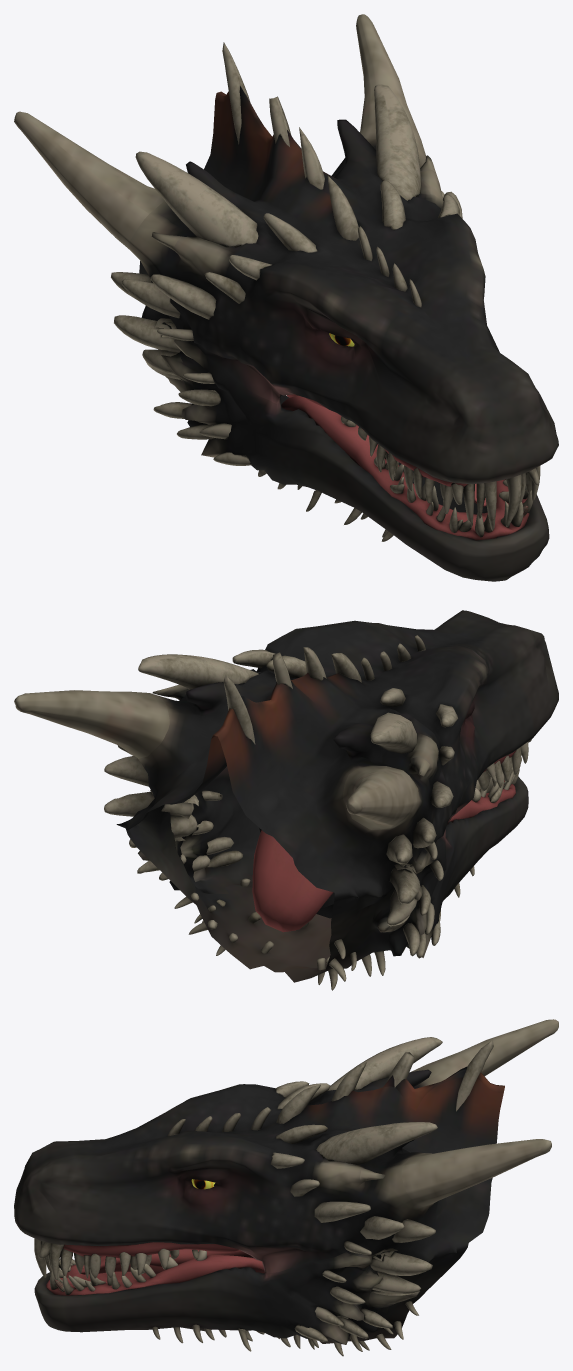
The model's file is dragon_00002.obj.
The picture shows the model from 3 angles, top to bottom: view 1: azimuth 30°, elevation 25°; view 2: azimuth 150°, elevation 25°; view 3: azimuth 270°, elevation 25°; orthographic projection. The views are drawn at different scales.
Parts seen in each view (by area): view 1: Dragon_Untitled; view 2: Dragon_Untitled; view 3: Dragon_Untitled.
Part boxes in pixels (x1,y1,x2,y2): Dragon_Untitled: (14, 14, 558, 581); Dragon_Untitled: (14, 610, 558, 990); Dragon_Untitled: (14, 1019, 558, 1356).
Bounding box in the file's own units: 2.72 × 2.69 × 4.46.
